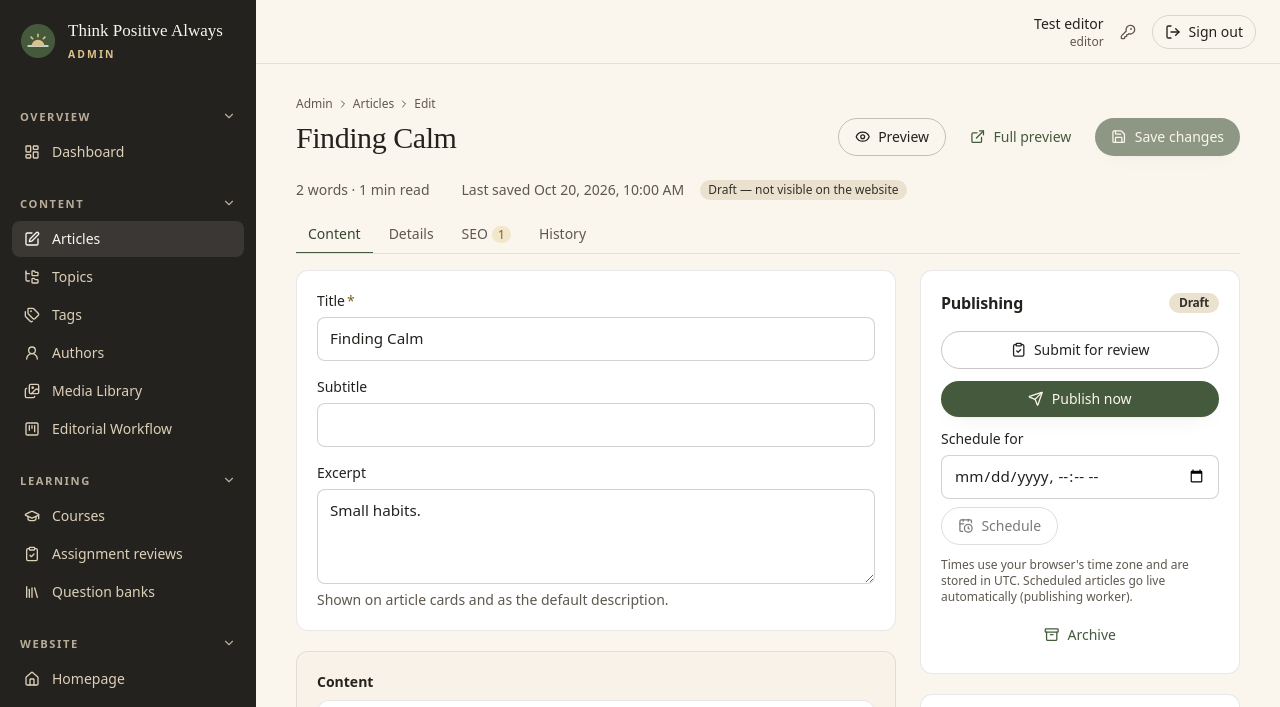
SEO panel › locks indexing controls without the SEO permission
Click the tab "SEO1": (486, 235) [450, 216, 523, 254]
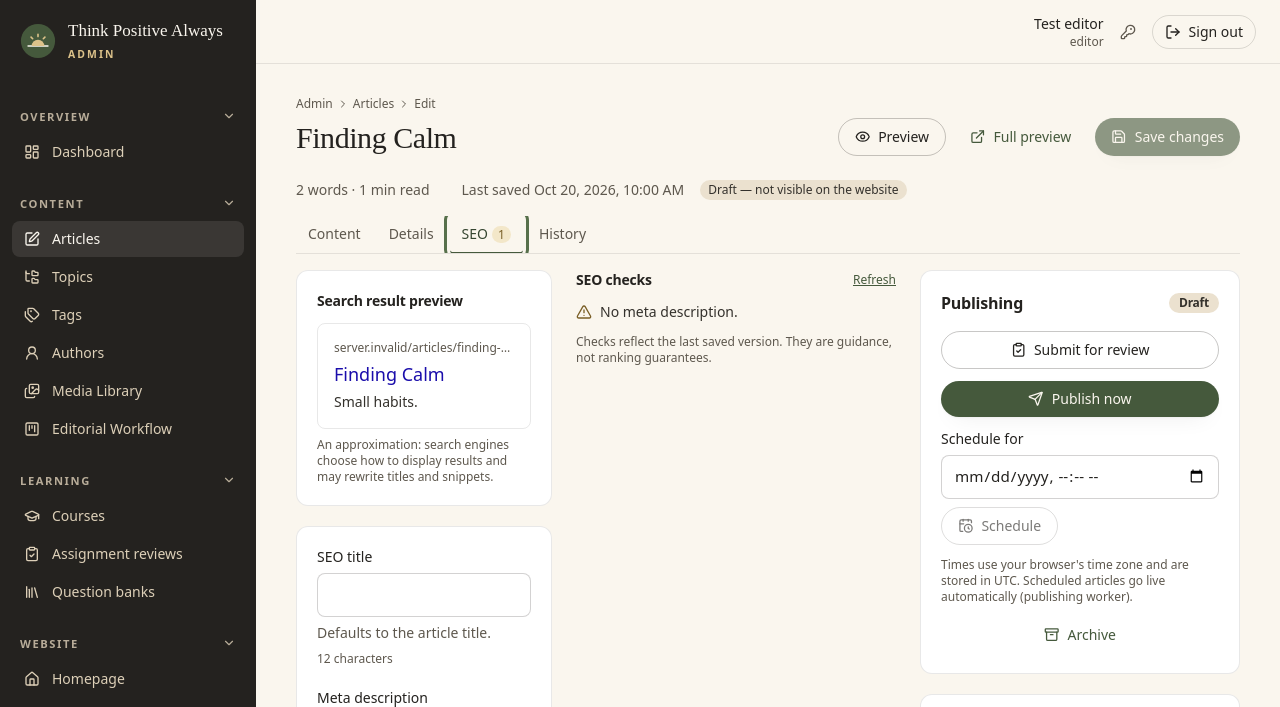
Check: the field labelled "SEO title" is enabled, box [317, 573, 531, 617]
